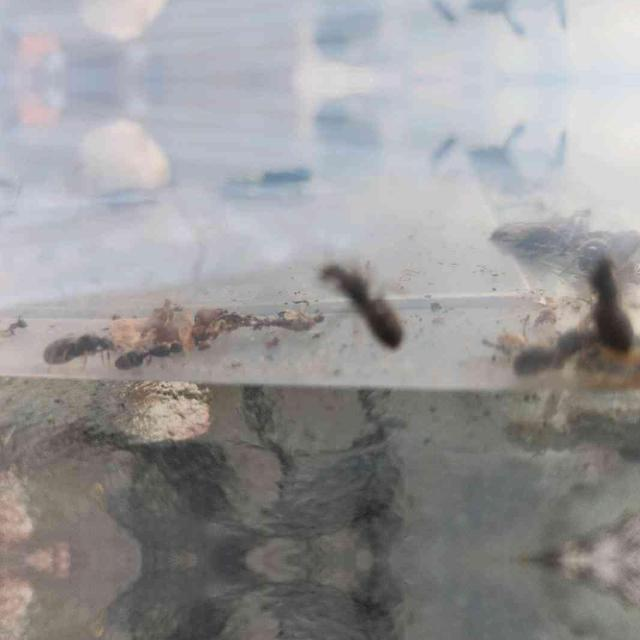Lasius: (312, 245, 420, 352), (575, 240, 639, 360), (508, 311, 602, 374), (46, 325, 112, 369)
Tetramorium: (114, 334, 196, 374)
